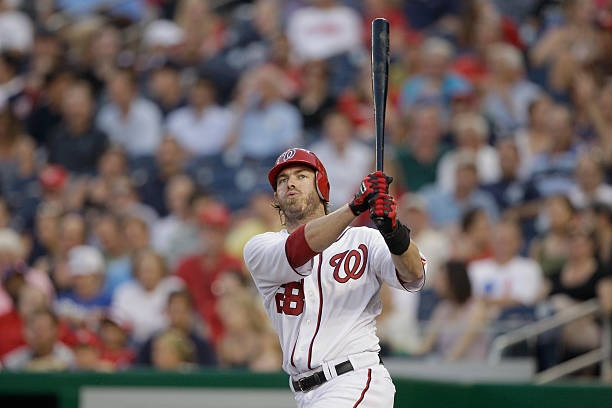bita: (368, 17, 390, 181)
